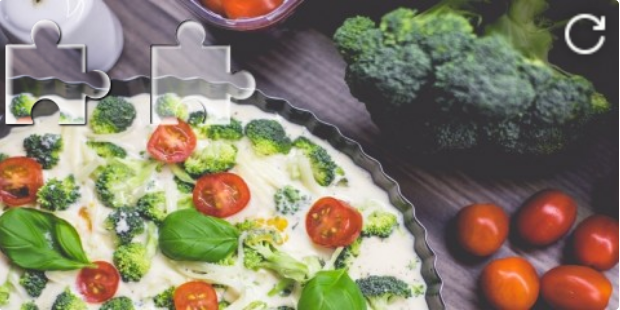target: (151, 20, 255, 126)
